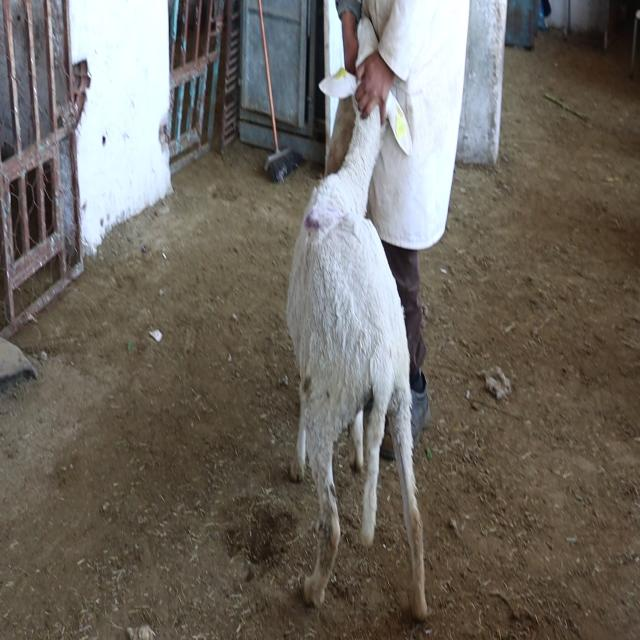Score_3: (287, 68, 427, 619)
